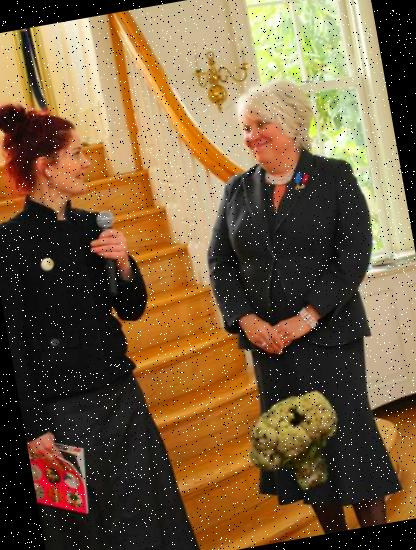Cauliflower: (239, 385, 358, 503)
